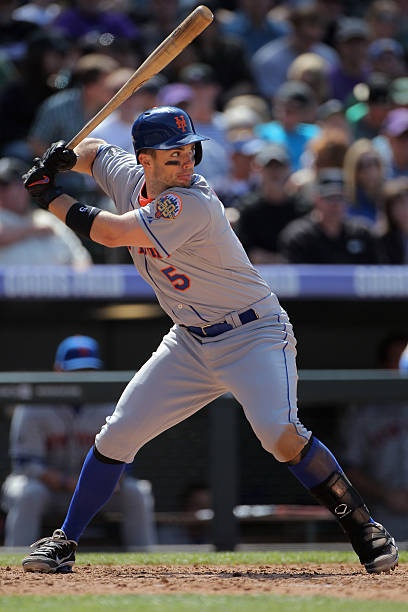bita: (52, 5, 214, 168)
